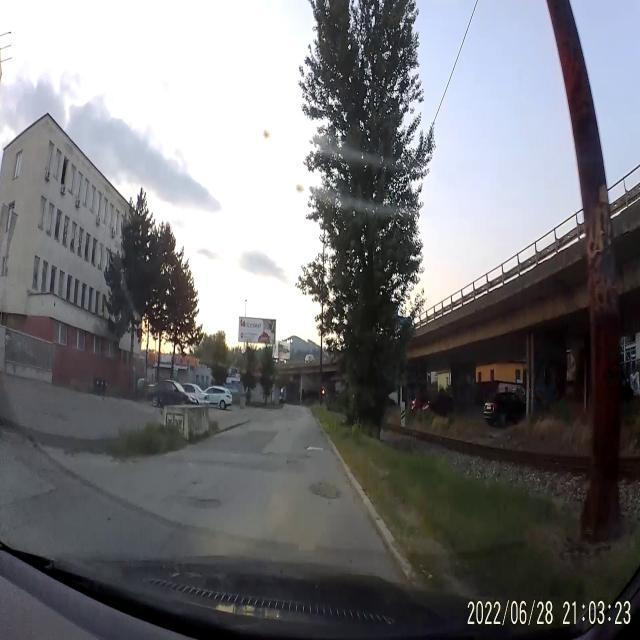Pothole: (309, 478, 343, 506), (188, 491, 225, 513), (306, 442, 326, 454)
